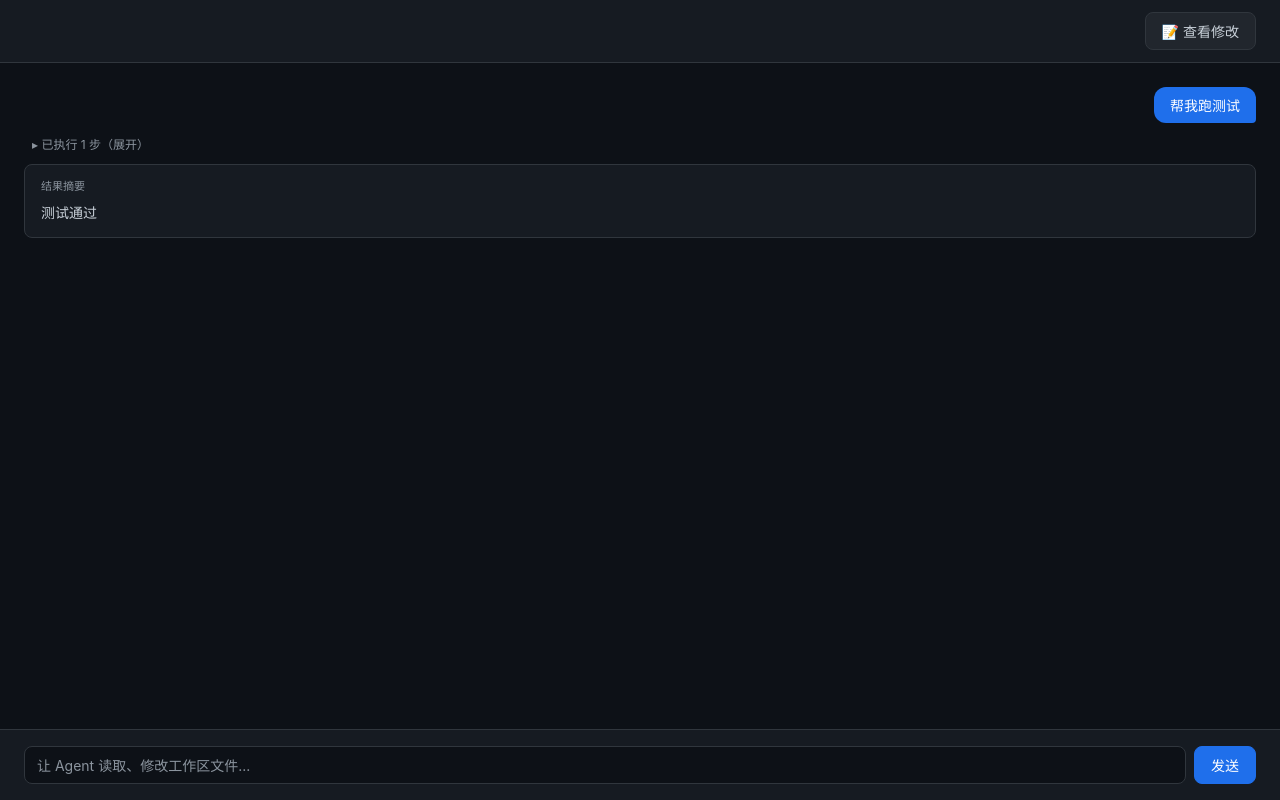
Conversation › 点击折叠控件展开中间过程
Click the button with test id "collapse-toggle". click: (90,144)
box: [24,131,157,156]
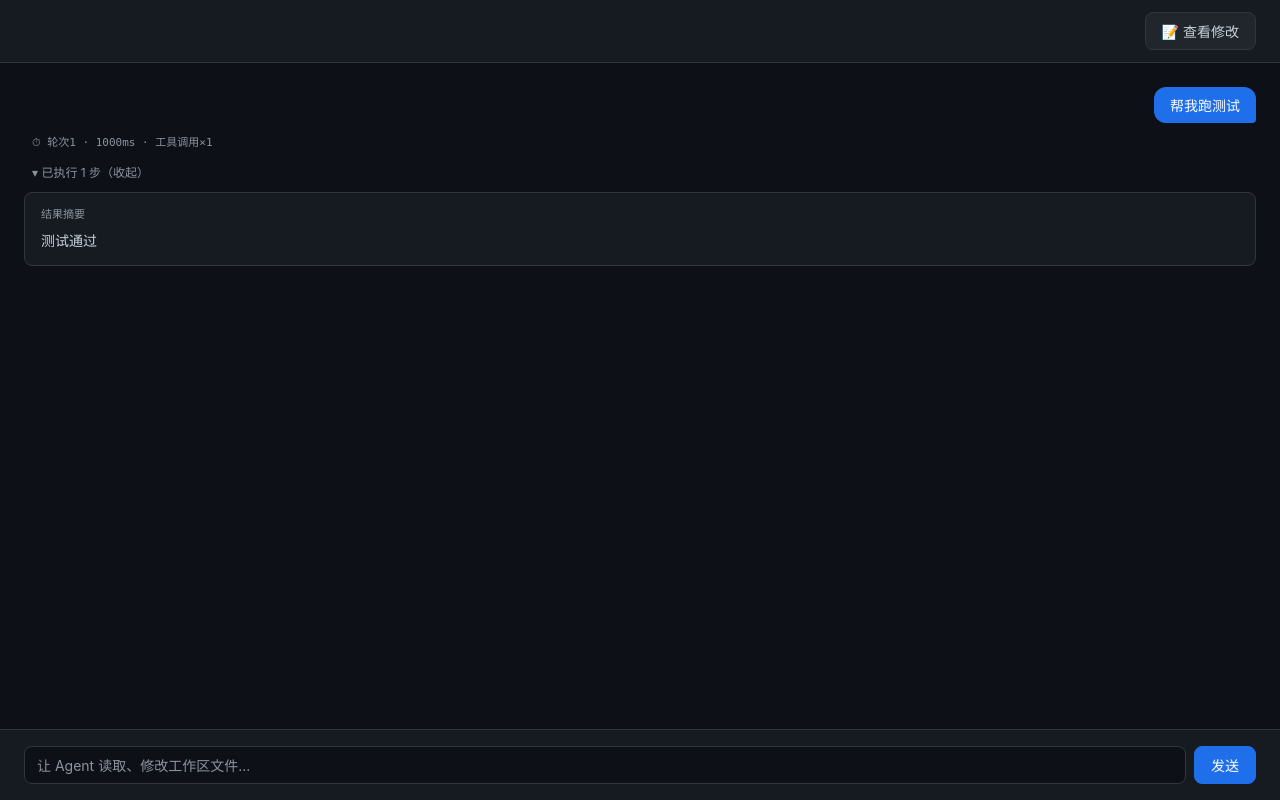
Now the text "⏱ 轮次1 · 1000ms · 工具调用×1" is shown, box [32,136,212,149]
Now the button with test id "collapse-toggle" shows "收起"
Click the button with test id "collapse-toggle". click: (90,172)
box: [24,159,157,184]
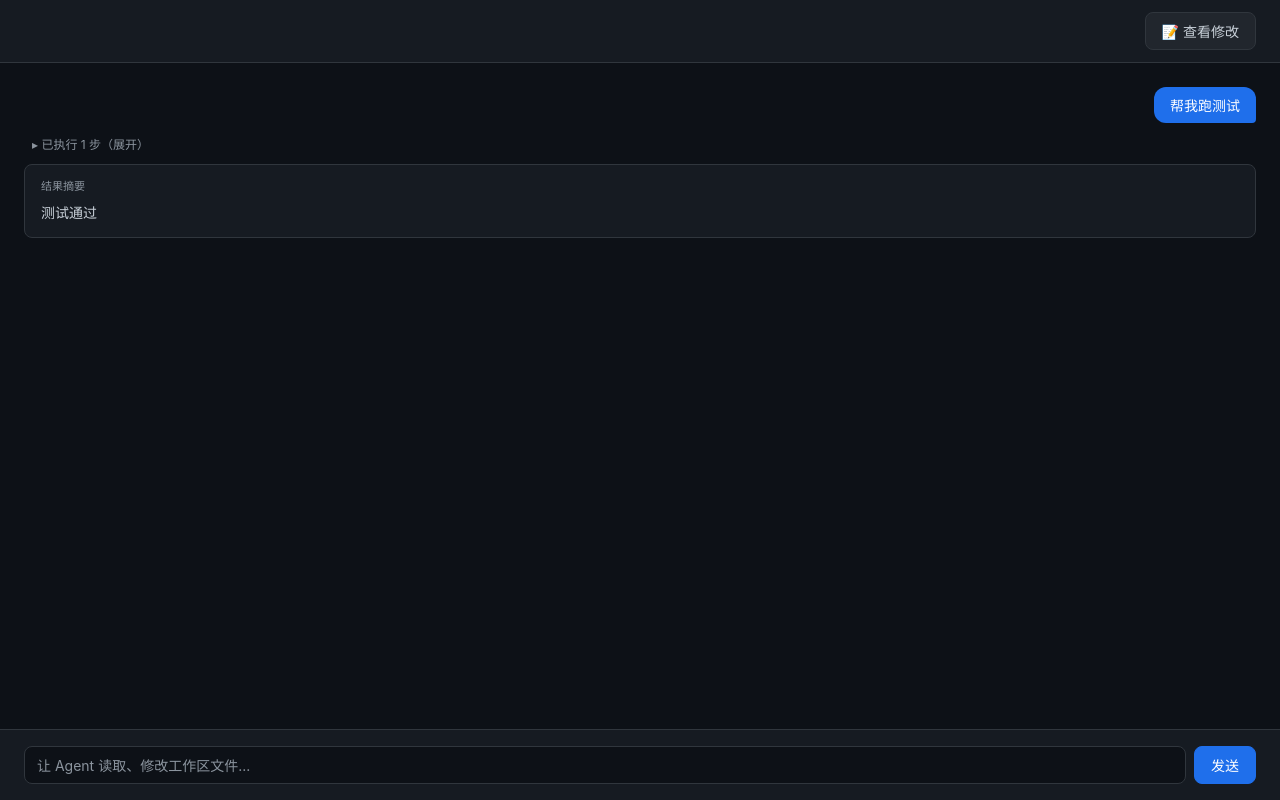
Now the text with test id "round-timing" is gone
